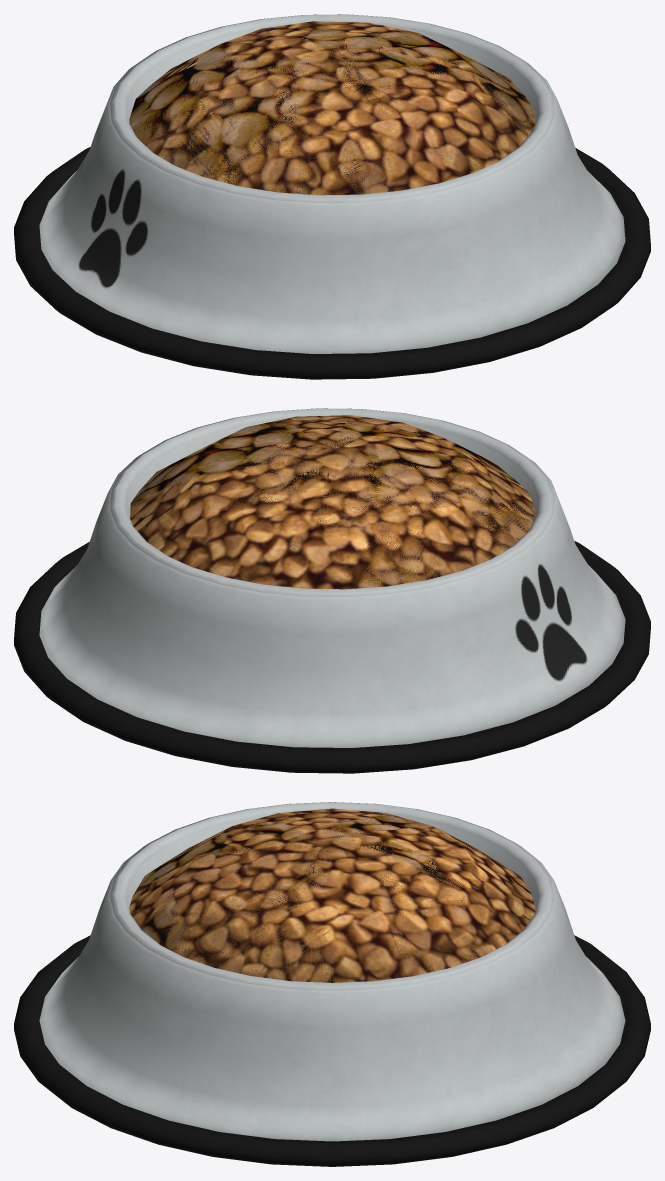
The model's file is Food_toy.fbx.
3 renders of one model, top to bottom at view 1: azimuth 30°, elevation 25°; view 2: azimuth 150°, elevation 25°; view 3: azimuth 270°, elevation 25°, orthographic.
Parts seen in each view (by area): view 1: Bowl_1, Food_1, Food_2, Bowl_2; view 2: Bowl_1, Food_1, Food_2, Bowl_2; view 3: Bowl_1, Food_1, Food_2, Bowl_2.
Boxes of the visible parts, x1=… form: Bowl_1: x1=14, y1=14, x2=650, y2=379; Food_1: x1=133, y1=21, x2=535, y2=195; Food_2: x1=129, y1=26, x2=535, y2=195; Bowl_2: x1=110, y1=14, x2=554, y2=202; Bowl_1: x1=14, y1=408, x2=650, y2=773; Food_1: x1=130, y1=415, x2=534, y2=589; Food_2: x1=130, y1=420, x2=534, y2=588; Bowl_2: x1=110, y1=408, x2=554, y2=596; Bowl_1: x1=14, y1=802, x2=650, y2=1166; Food_1: x1=129, y1=808, x2=535, y2=982; Food_2: x1=139, y1=809, x2=516, y2=982; Bowl_2: x1=110, y1=802, x2=554, y2=990.
Size of the model in its own units: 0.2858 by 0.1249 by 0.2858.
